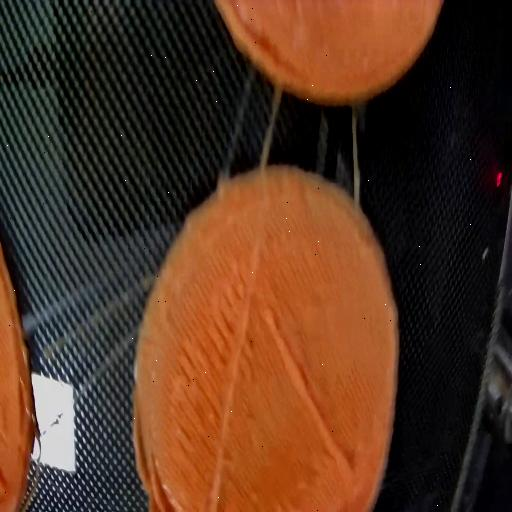over_extrusion: (262, 306, 356, 488), (208, 245, 258, 511)
